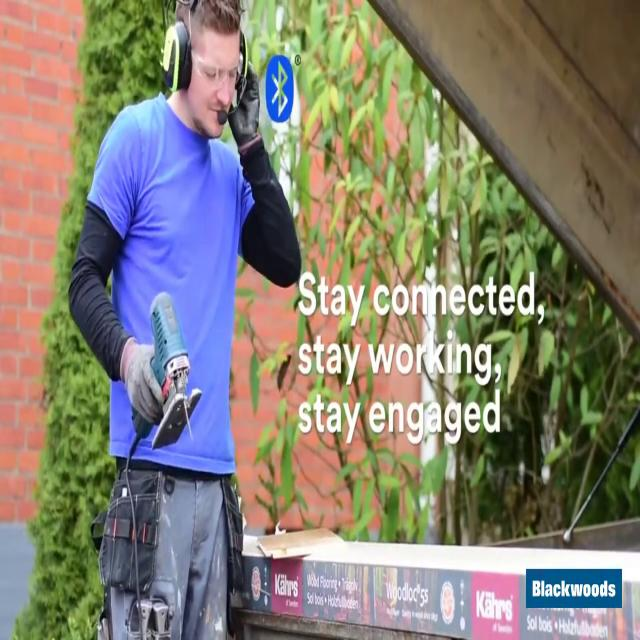earmuff: (160, 19, 195, 94)
glasses: (193, 54, 240, 86)
